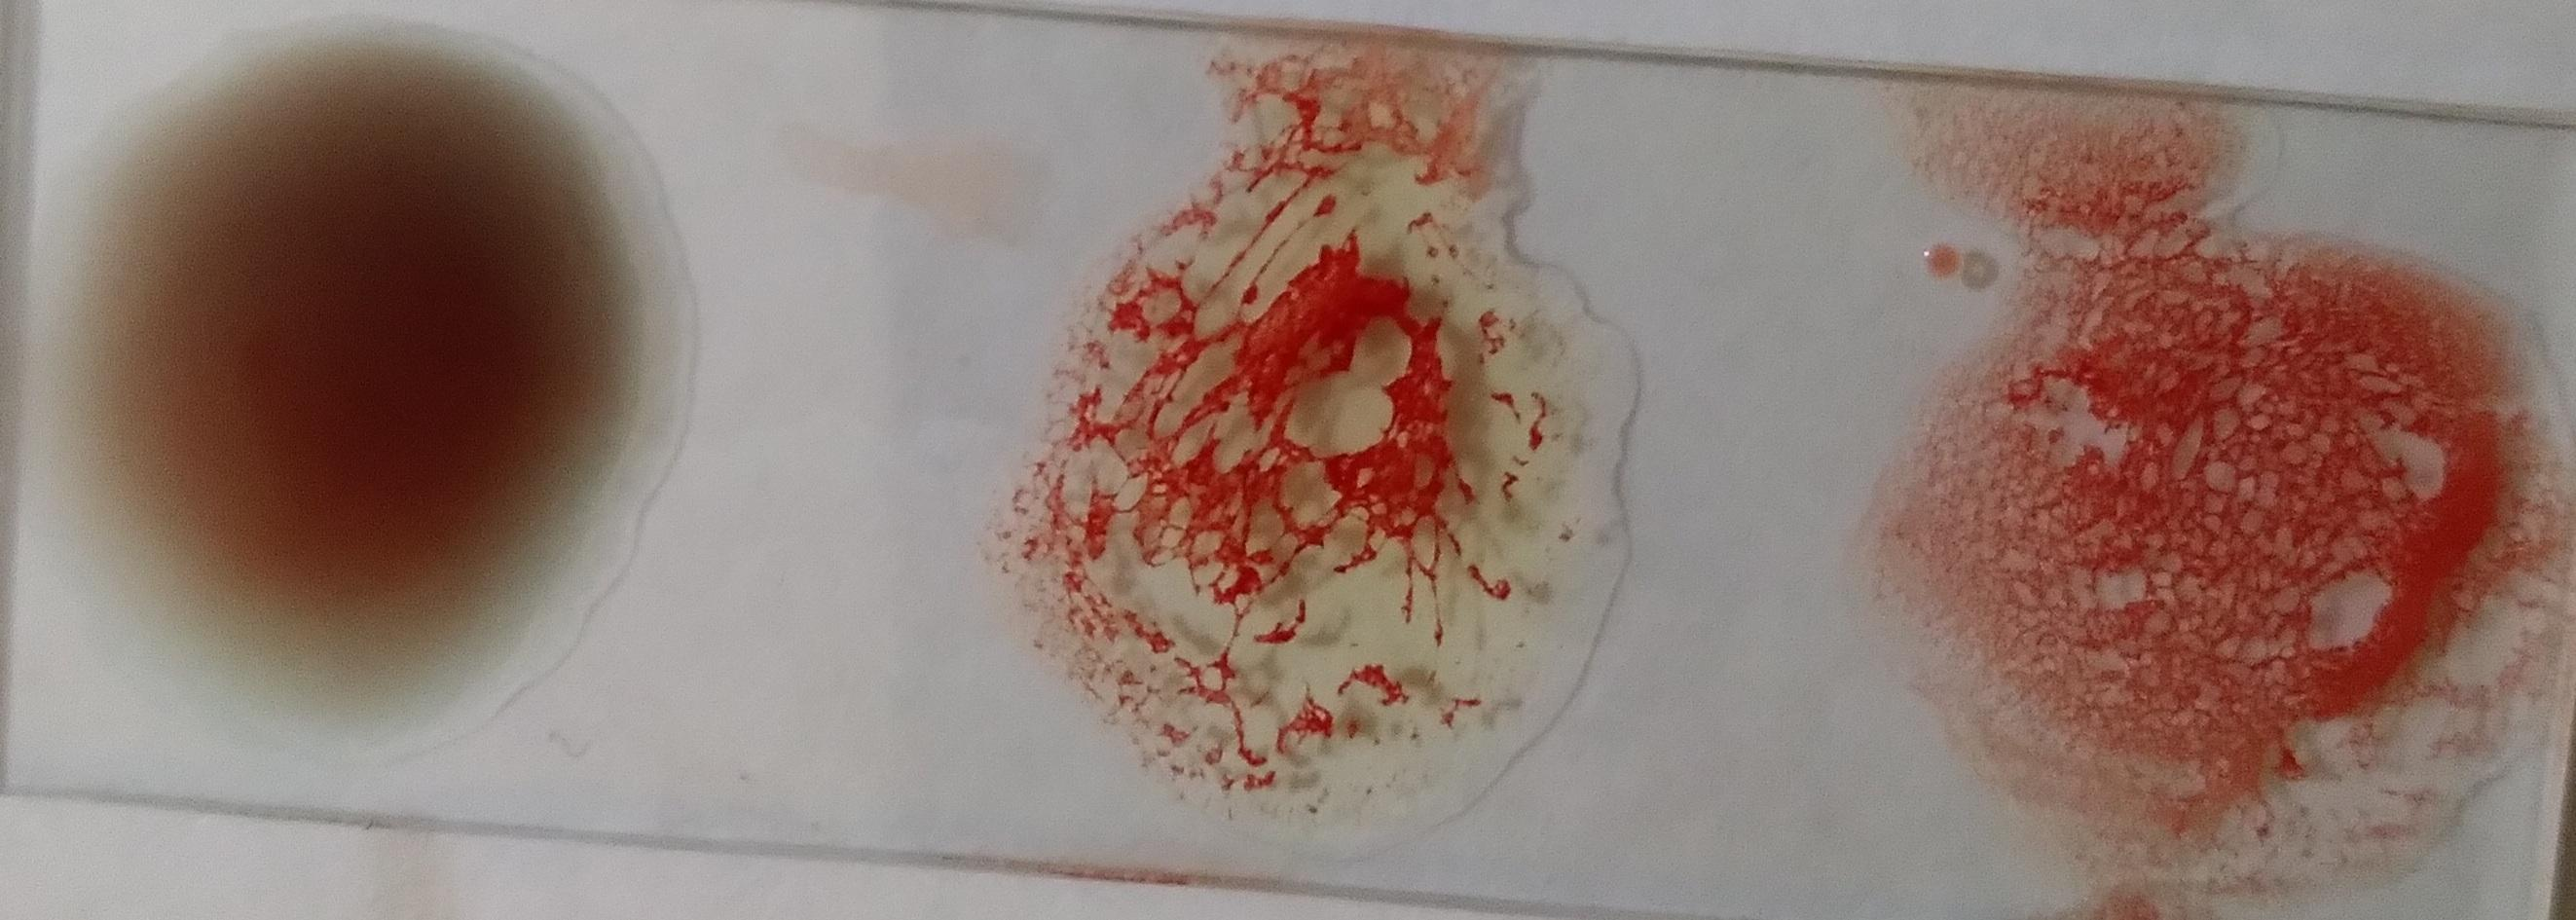B: (1058, 158, 1617, 825)
D: (1925, 228, 2551, 881)
